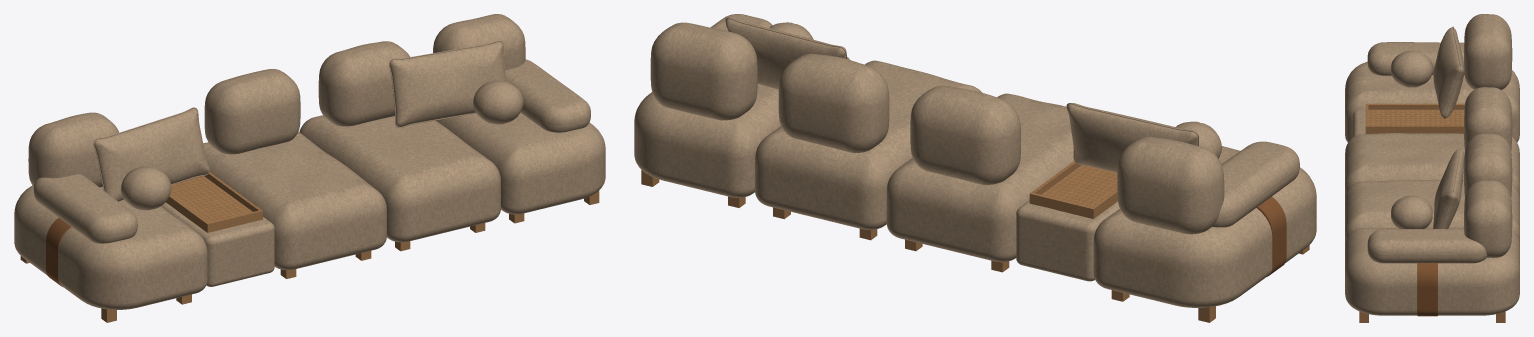
The model's file is straight-4seats.glb.
3 views of the same model, side by side, from view 1: azimuth 30°, elevation 25°; view 2: azimuth 150°, elevation 25°; view 3: azimuth 270°, elevation 25° (orthographic). The views are drawn at different scales.
Parts seen in each view (by area): view 1: fabric, pillows (×2), detail (×2), legs; view 2: fabric, pillows (×2), detail (×2), legs; view 3: fabric, pillows (×2), detail (×2), legs.
Part boxes in pixels (box(x1,y1,x2,y2)): fabric: box(14, 14, 605, 309); pillows (×2): box(93, 40, 523, 210); detail (×2): box(46, 172, 262, 286); legs: box(20, 190, 599, 322); fabric: box(634, 14, 1316, 307); pillows (×2): box(725, 17, 1221, 172); detail (×2): box(1029, 161, 1286, 276); legs: box(641, 170, 1309, 322); fabric: box(1345, 14, 1519, 315); pillows (×2): box(1391, 26, 1464, 229); detail (×2): box(1365, 103, 1464, 316); legs: box(1359, 311, 1505, 322).
Bounding box in the file's own units: 3.2 × 0.8058 × 1.1.
4 materials, 4 textured.
